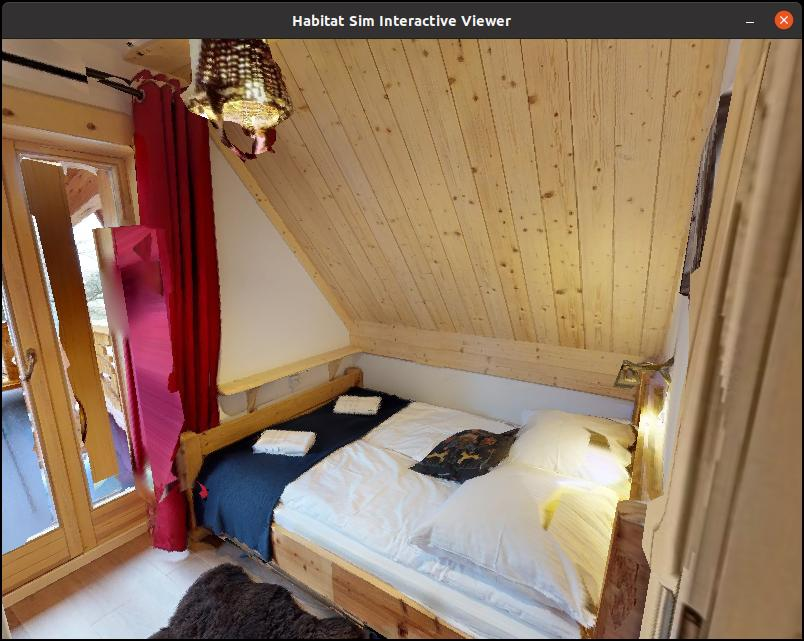bed: (166, 351, 682, 641)
